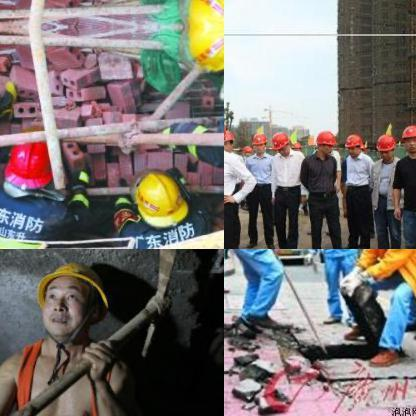Helmet: (28, 252, 112, 342), (2, 140, 60, 196), (132, 169, 188, 221), (188, 26, 223, 71), (188, 0, 223, 25), (313, 128, 335, 156), (375, 132, 398, 158), (398, 121, 415, 156), (270, 128, 290, 152), (344, 130, 362, 154), (250, 130, 266, 154), (224, 126, 236, 155)
